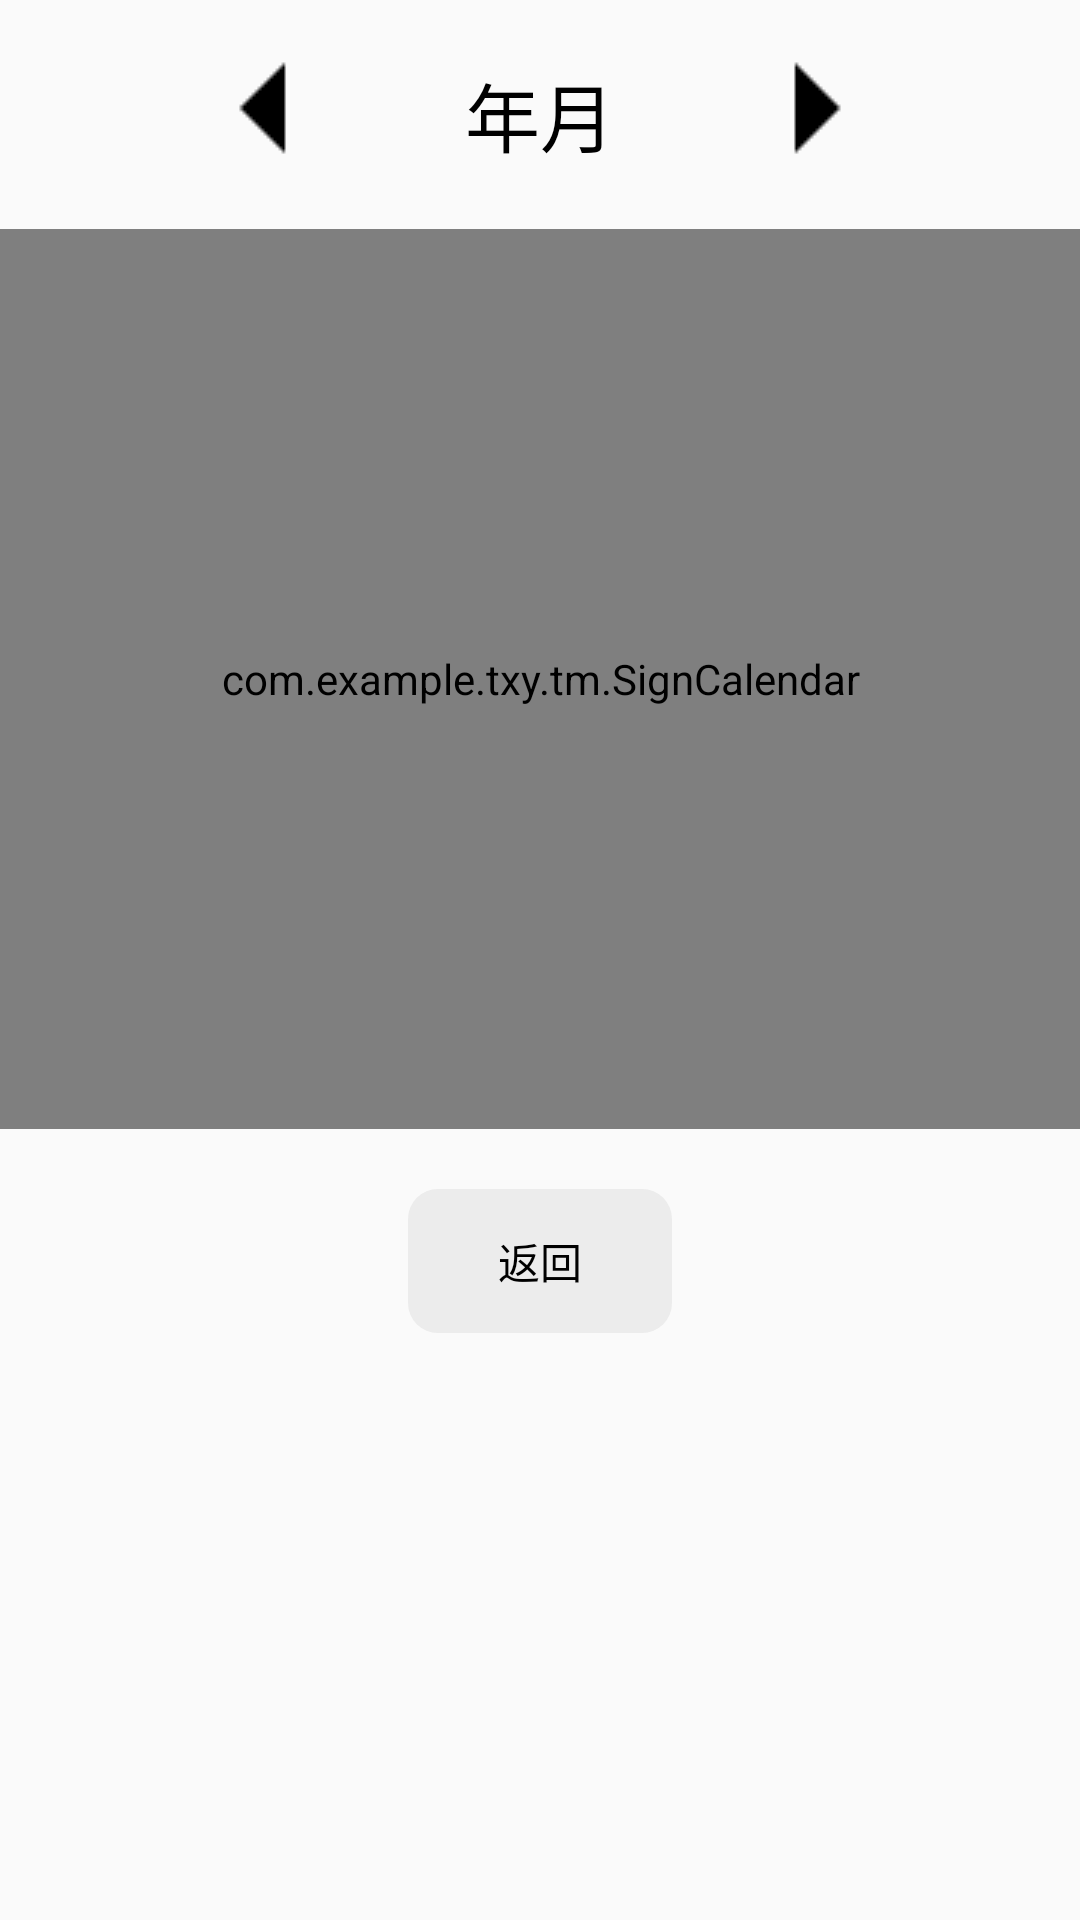

Named icons in this screenshot (1080×1920) and their centers, [x,y]:
left: [262,108]
right: [817,108]
